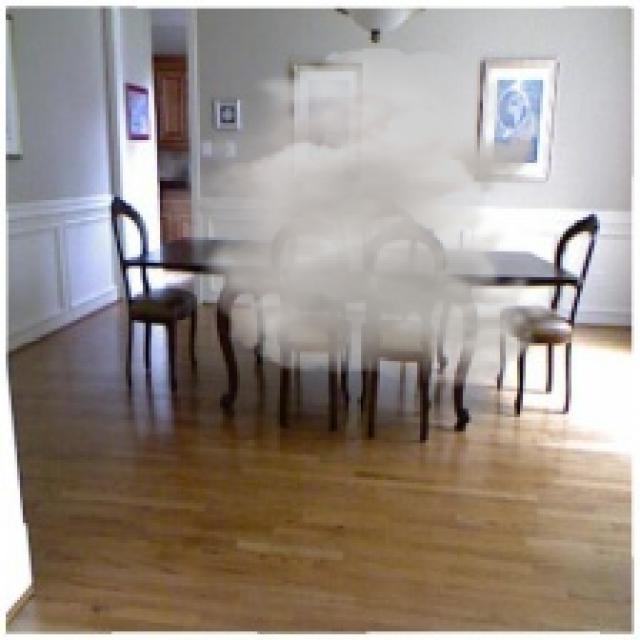smoke: (148, 46, 552, 388)
